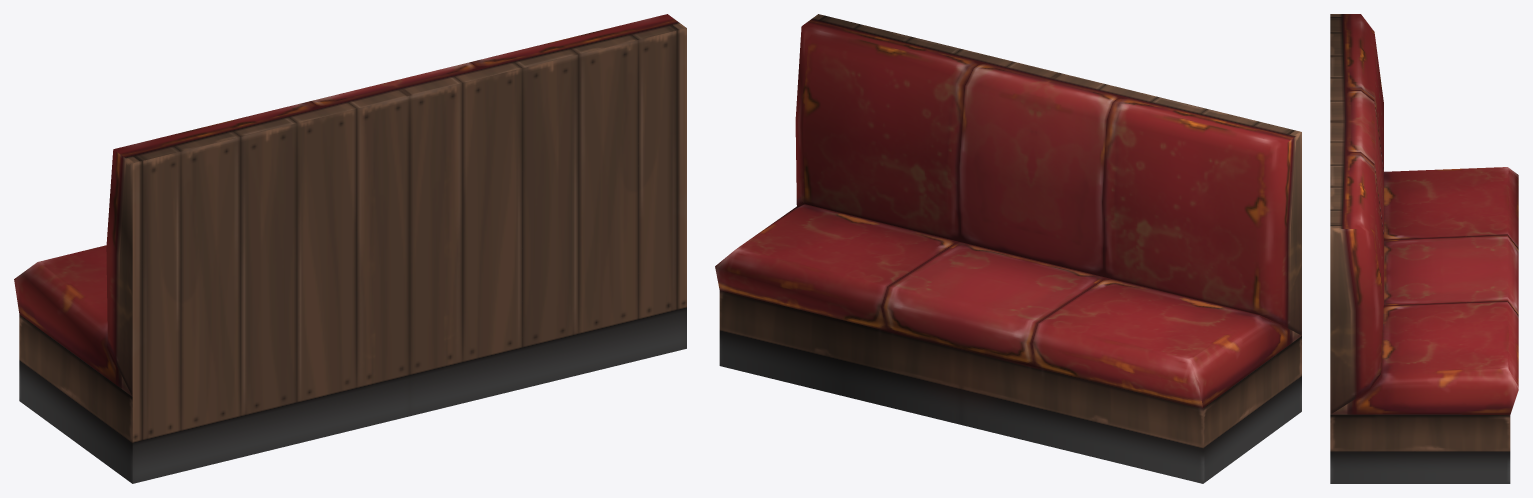
Rendered from bench_diner.fbx.
3 renders of one model, left to right at view 1: azimuth 30°, elevation 25°; view 2: azimuth 150°, elevation 25°; view 3: azimuth 270°, elevation 25°, orthographic. The views are drawn at different scales.
Parts seen in each view (by area): view 1: bench_diner; view 2: bench_diner; view 3: bench_diner.
Part boxes in pixels (x1,y1,x2,y2): bench_diner: [14, 14, 686, 483]; bench_diner: [715, 14, 1301, 483]; bench_diner: [1330, 14, 1518, 483].
Size of the model in its own units: 200 by 111 by 74.05.
